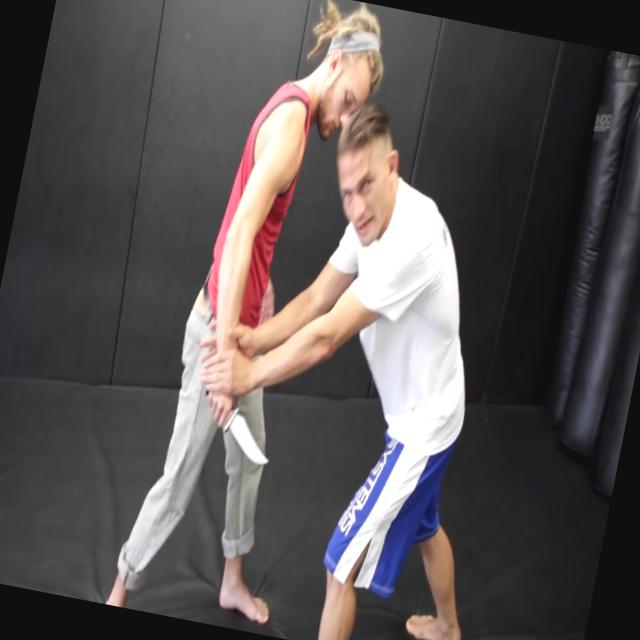knife: (188, 371, 290, 473)
